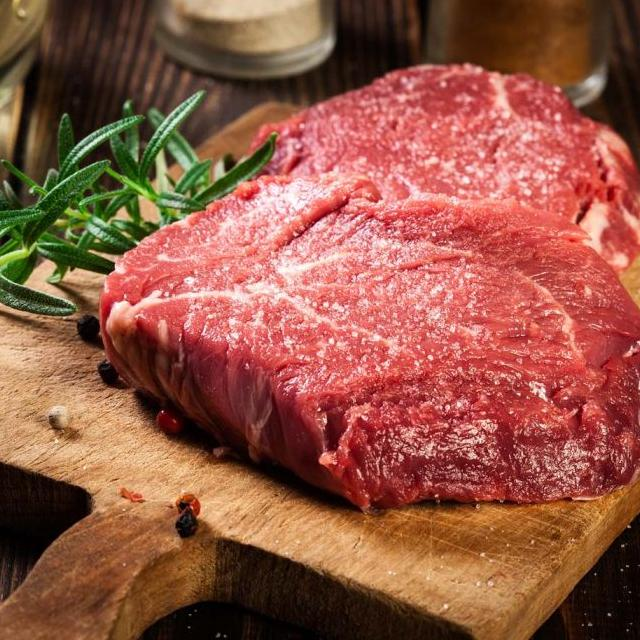beef: (93, 168, 640, 510), (261, 62, 640, 269)
